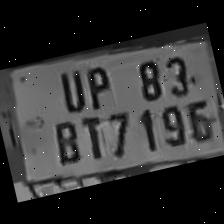1: (127, 100, 161, 154)
3: (156, 47, 192, 97)
6: (179, 92, 216, 146)
7: (97, 104, 138, 160)
8: (128, 52, 166, 102)
9: (152, 98, 190, 148)
B: (45, 112, 83, 166)
P: (77, 56, 117, 110)
T: (75, 110, 109, 162)
U: (48, 61, 89, 115)
